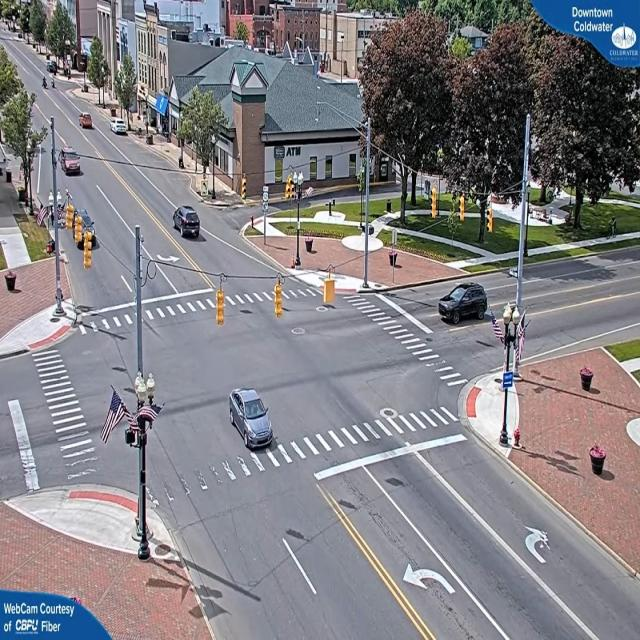car: (230, 388, 276, 449), (438, 284, 489, 326), (173, 207, 203, 240), (60, 150, 81, 178), (112, 120, 128, 136)
